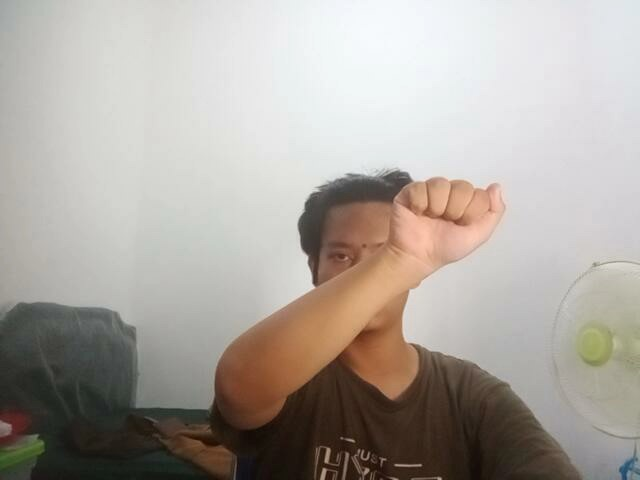A: (391, 171, 513, 271)
